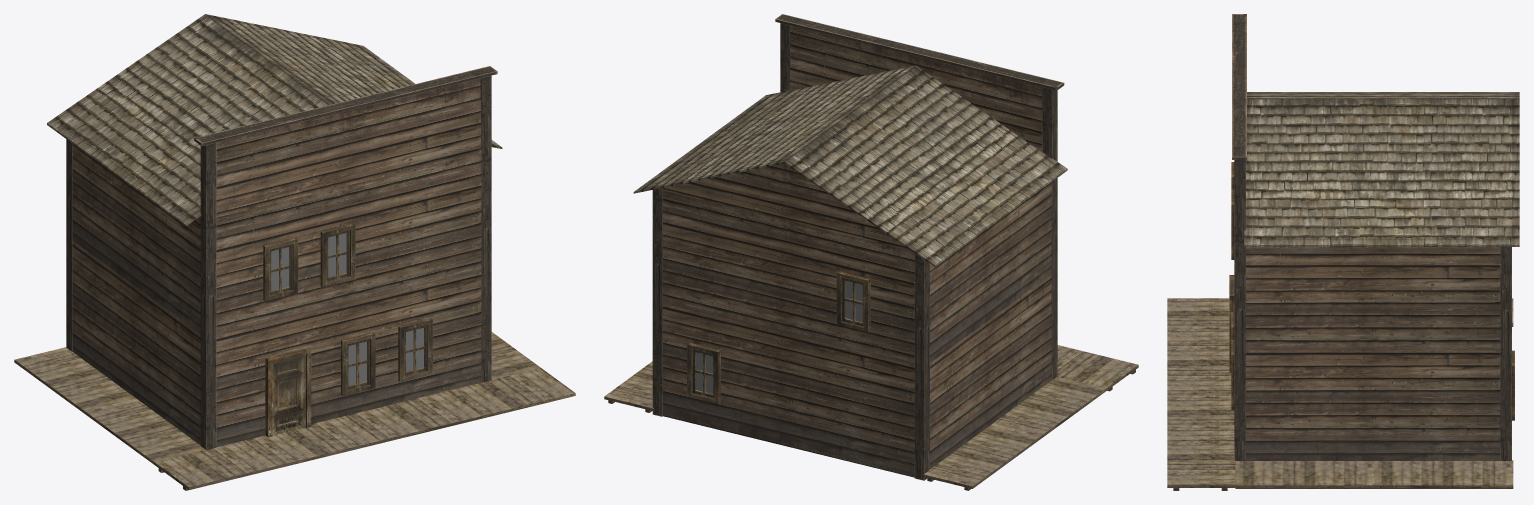
File: Building4_LOD0.FBX
3 views of the same model, side by side, from view 1: azimuth 30°, elevation 25°; view 2: azimuth 150°, elevation 25°; view 3: azimuth 270°, elevation 25° (orthographic). The views are drawn at different scales.
Visible parts, largest first — view 1: roof, building, glass; view 2: roof, building, glass; view 3: roof, building.
Boxes of the visible parts, left/top/right/bottom form: roof: left=47, top=14, right=502, bottom=446; building: left=14, top=66, right=575, bottom=490; glass: left=271, top=233, right=423, bottom=385; roof: left=633, top=25, right=1067, bottom=477; building: left=604, top=14, right=1138, bottom=490; glass: left=696, top=281, right=862, bottom=393; roof: left=1244, top=92, right=1519, bottom=460; building: left=1167, top=14, right=1514, bottom=490.
Size of the model in its own units: 420 by 328 by 334.
